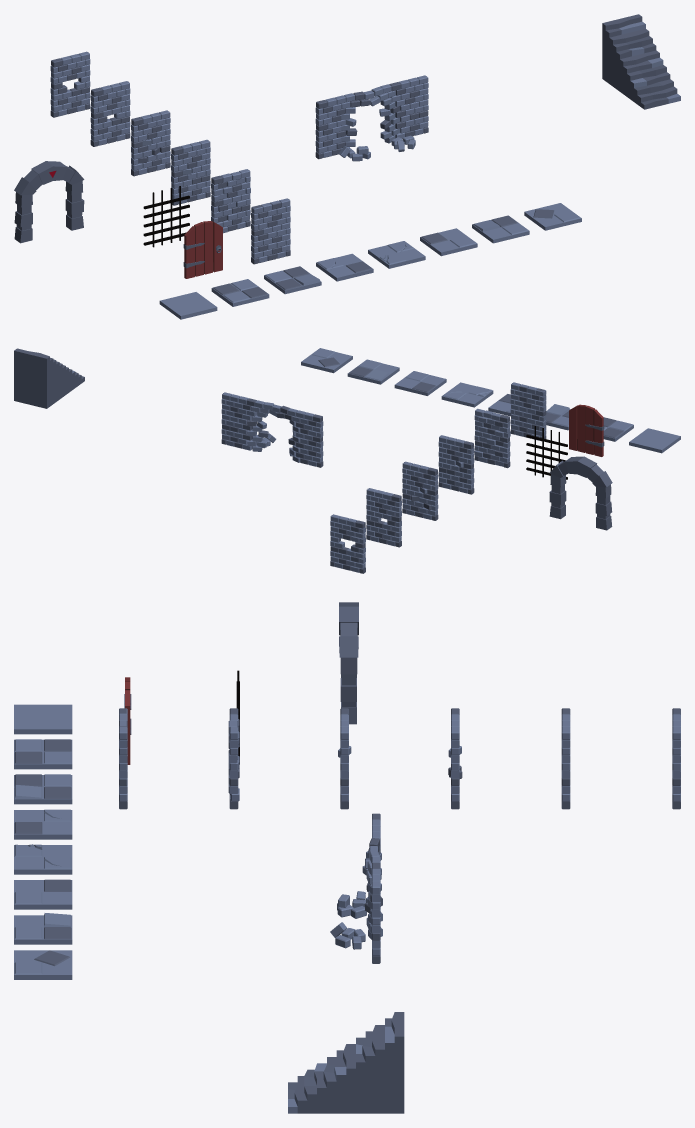
The model's file is dungeon_tiles.glb.
3 views of the same model, one above another, from view 1: azimuth 30°, elevation 25°; view 2: azimuth 150°, elevation 25°; view 3: azimuth 270°, elevation 25° (orthographic). The views are drawn at different scales.
Visible parts, largest first — view 1: ruined wall, door arc.038, stairs.001, stairs.002, brick wall, brick wall.003, brick wall.004, brick wall.002, brick wall.005, brick wall.001, door.001, bars.001 (+8 smaller); view 2: ruined wall, stairs.002, door arc.038, brick wall.003, brick wall.002, brick wall.001, brick wall.004, brick wall, brick wall.005, door.001, bars.001, floor.004 (+7 smaller); view 3: stairs.002, stairs.001, ruined wall, door arc.038, floor.001, floor, floor.002, floor.006, floor.003, floor.005, floor.004, floor.007 (+6 smaller).
Boxes of the visible parts, bbox=[...] form: ruined wall: bbox=[315, 75, 428, 161]; door arc.038: bbox=[14, 161, 84, 243]; stairs.001: bbox=[620, 50, 680, 109]; stairs.002: bbox=[602, 14, 656, 91]; brick wall: bbox=[251, 198, 290, 264]; brick wall.003: bbox=[131, 110, 170, 176]; brick wall.004: bbox=[90, 81, 130, 146]; brick wall.002: bbox=[171, 139, 210, 205]; brick wall.005: bbox=[50, 51, 90, 117]; brick wall.001: bbox=[211, 169, 250, 233]; door.001: bbox=[183, 221, 222, 278]; bars.001: bbox=[143, 186, 189, 247]; ruined wall: bbox=[221, 392, 323, 467]; stairs.002: bbox=[14, 348, 62, 408]; door arc.038: bbox=[549, 456, 612, 530]; brick wall.003: bbox=[402, 461, 438, 520]; brick wall.002: bbox=[438, 435, 474, 494]; brick wall.001: bbox=[474, 408, 510, 468]; brick wall.004: bbox=[366, 488, 401, 547]; brick wall: bbox=[510, 382, 546, 441]; brick wall.005: bbox=[330, 514, 365, 573]; door.001: bbox=[569, 404, 604, 456]; bars.001: bbox=[526, 426, 567, 479]; floor.004: bbox=[441, 382, 493, 407]; stairs.002: bbox=[356, 1012, 404, 1113]; stairs.001: bbox=[288, 1044, 355, 1113]; ruined wall: bbox=[330, 813, 382, 963]; door arc.038: bbox=[339, 602, 358, 724]; floor.001: bbox=[14, 739, 72, 769]; floor: bbox=[14, 704, 72, 734]; floor.002: bbox=[14, 774, 72, 804]; floor.006: bbox=[14, 913, 72, 944]; floor.003: bbox=[14, 809, 72, 839]; floor.005: bbox=[14, 879, 72, 909]; floor.004: bbox=[14, 844, 72, 874]; floor.007: bbox=[14, 950, 72, 979].
Bounding box in the file's own units: 36.97 × 3.84 × 24.11.
